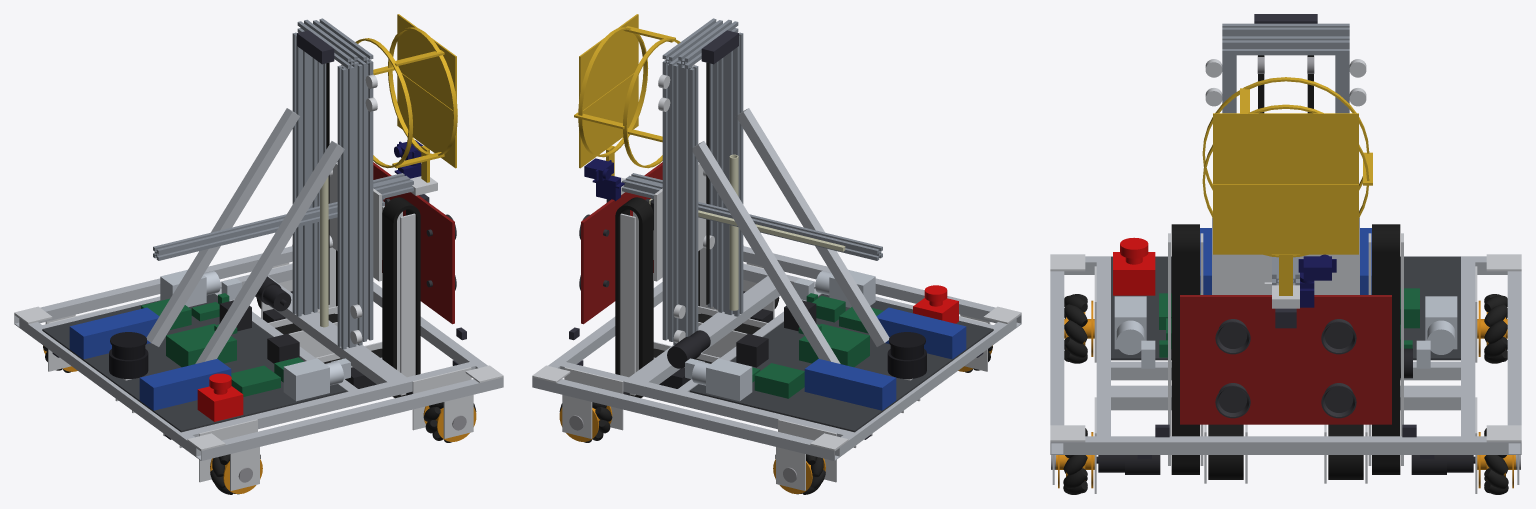
File: BR-A_awal.glb
3 views of the same model, side by side, from view 1: azimuth 30°, elevation 25°; view 2: azimuth 150°, elevation 25°; view 3: azimuth 270°, elevation 25° (orthographic). The views are drawn at different scales.
Visible parts, largest first — view 1: tiang_lift_t0_2, dek_elektronik, tiang_lift_t0, keranjang_alas_2_daun, dek_samping_kanan, penguat_tiang_2, penguat_tiang, pelat_kepala_vakum, flipper_kanan, rel_dalam_kanan, keranjang_rangka, tiang_lift_t1_2 (+32 smaller); view 2: dek_elektronik, tiang_lift_t0, keranjang_alas_2_daun, tiang_lift_t0_2, dek_samping_kiri, penguat_tiang, penguat_tiang_2, pelat_kepala_vakum, flipper_kiri, rel_dalam_kiri, baterai_6S, keranjang_rangka (+35 smaller); view 3: pelat_kepala_vakum, keranjang_alas_2_daun, dek_depan, dek_elektronik, flipper_kiri, flipper_kanan, cup_vakum_x4, carriage, keranjang_rangka, palang_tiang, rel_dalam_kiri, rel_dalam_kanan (+31 smaller).
Part boxes in pixels (x1,y1,x2,y2): tiang_lift_t0_2: (337,61,362,349); dek_elektronik: (42,294,346,432); tiang_lift_t0: (292,32,317,316); keranjang_alas_2_daun: (397,14,456,168); dek_samping_kanan: (195,377,503,460); penguat_tiang_2: (195,141,344,363); penguat_tiang: (146,108,299,346); pelat_kepala_vakum: (373,162,454,324); flipper_kanan: (382,197,420,398); rel_dalam_kanan: (187,362,475,437); keranjang_rangka: (355,27,457,182); tiang_lift_t1_2: (362,64,373,341); dek_elektronik: (689,294,993,432); tiang_lift_t0: (673,61,698,344); keranjang_alas_2_daun: (579,14,638,168); tiang_lift_t0_2: (718,32,743,316); dek_samping_kiri: (532,377,840,460); penguat_tiang: (692,141,840,363); penguat_tiang_2: (737,108,889,346); pelat_kepala_vakum: (581,162,662,324); flipper_kiri: (615,197,653,398); rel_dalam_kiri: (560,362,848,437); baterai_6S: (804,358,896,410); keranjang_rangka: (574,26,680,176); pelat_kepala_vakum: (1180,295,1391,424); keranjang_alas_2_daun: (1213,113,1358,254); dek_depan: (1064,436,1507,454); dek_elektronik: (1111,256,1460,360); flipper_kiri: (1372,224,1400,474); flipper_kanan: (1171,224,1199,474); cup_vakum_x4: (1215,319,1356,418); carriage: (1212,217,1359,294); keranjang_rangka: (1202,77,1372,295); palang_tiang: (1111,385,1460,410); rel_dalam_kiri: (1461,262,1475,436); rel_dalam_kanan: (1096,262,1110,436).
Size of the model in its own units: 671 by 692 by 668.
